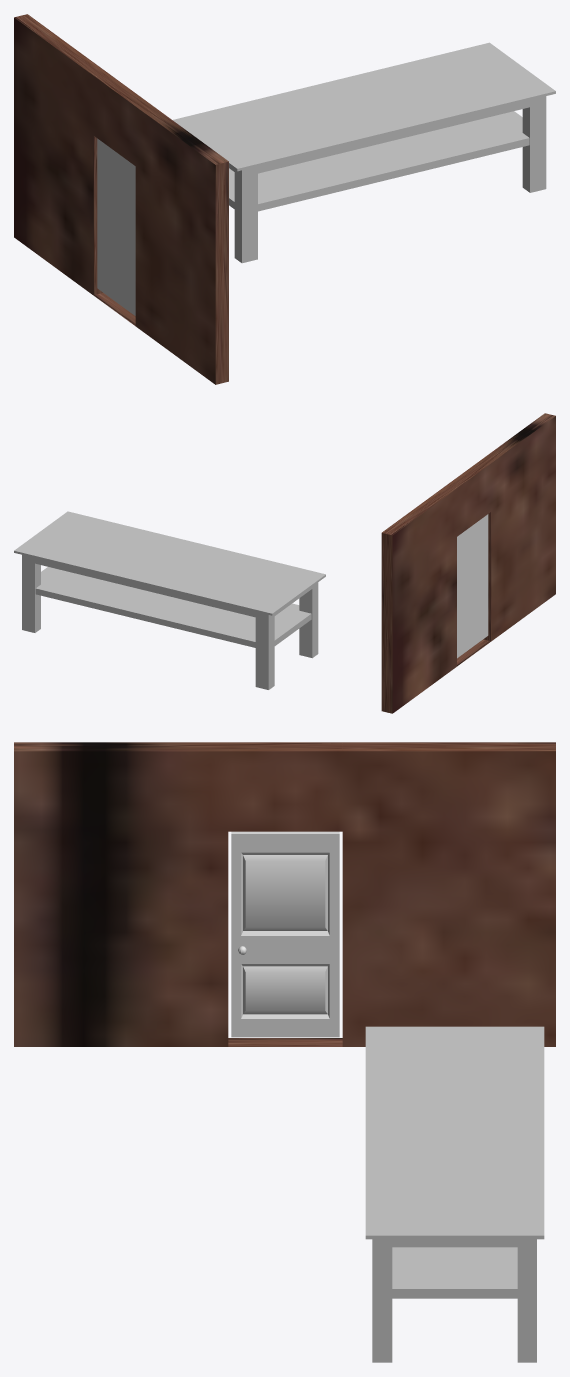
File: scaled.fbx
The picture shows the model from 3 angles, top to bottom: view 1: azimuth 30°, elevation 25°; view 2: azimuth 150°, elevation 25°; view 3: azimuth 270°, elevation 25°; orthographic projection. The views are drawn at different scales.
Visible parts, largest first — view 1: Cube.001, Cube.009, Cube.010; view 2: Cube.001, Cube.009, Cube.010; view 3: Cube.001, Cube.009, Cube.010.
Part boxes in pixels (<box>): Cube.001: <box>14,14,228,384</box>; Cube.009: <box>172,42,555,263</box>; Cube.010: <box>97,138,135,315</box>; Cube.001: <box>381,413,555,713</box>; Cube.009: <box>14,511,325,689</box>; Cube.010: <box>457,514,488,658</box>; Cube.001: <box>14,742,555,1046</box>; Cube.009: <box>365,1026,544,1362</box>; Cube.010: <box>231,831,339,1037</box>.
Bounding box in the file's own units: 3368 × 1605 × 2495.
